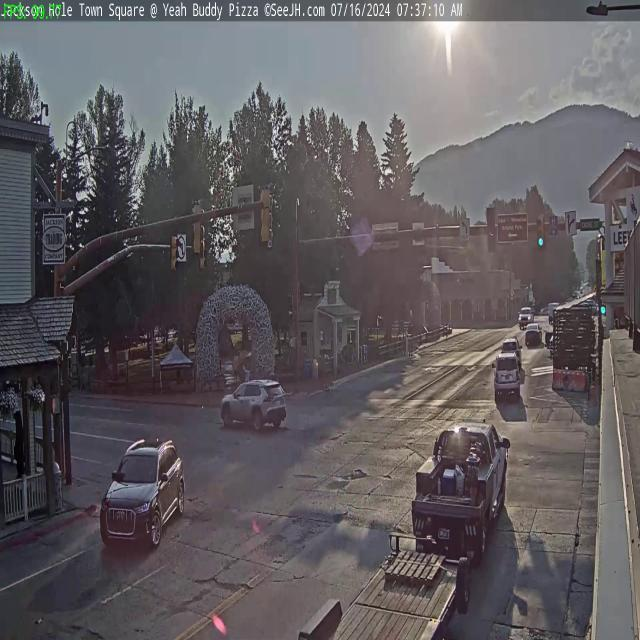motorcycle: (242, 360, 250, 382)
person: (518, 306, 533, 326)
pickup: (525, 323, 543, 345)
sedan: (99, 434, 186, 547), (220, 376, 286, 436), (493, 353, 521, 399), (502, 334, 520, 364)
suv: (260, 185, 274, 248), (190, 199, 204, 257), (486, 207, 496, 250), (170, 234, 179, 273), (536, 216, 546, 248), (200, 238, 208, 272)
traffic light: (410, 423, 508, 561)
